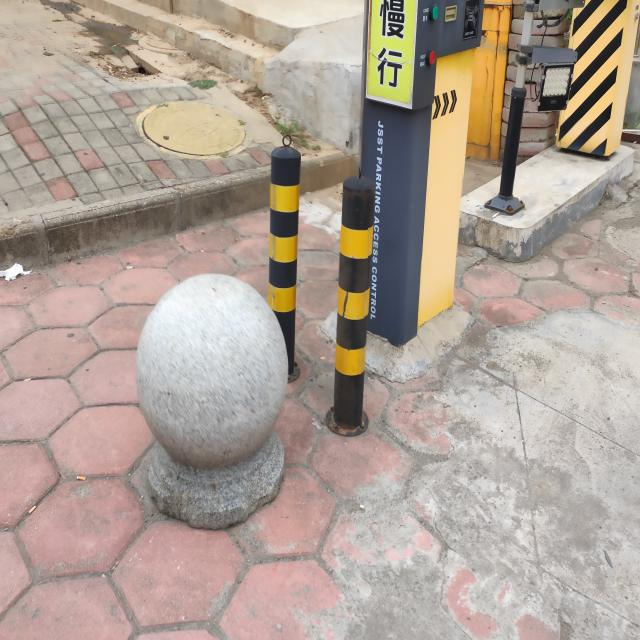spherical_roadblock: (126, 271, 290, 530)
warning_column: (327, 166, 377, 436), (265, 139, 309, 383)
